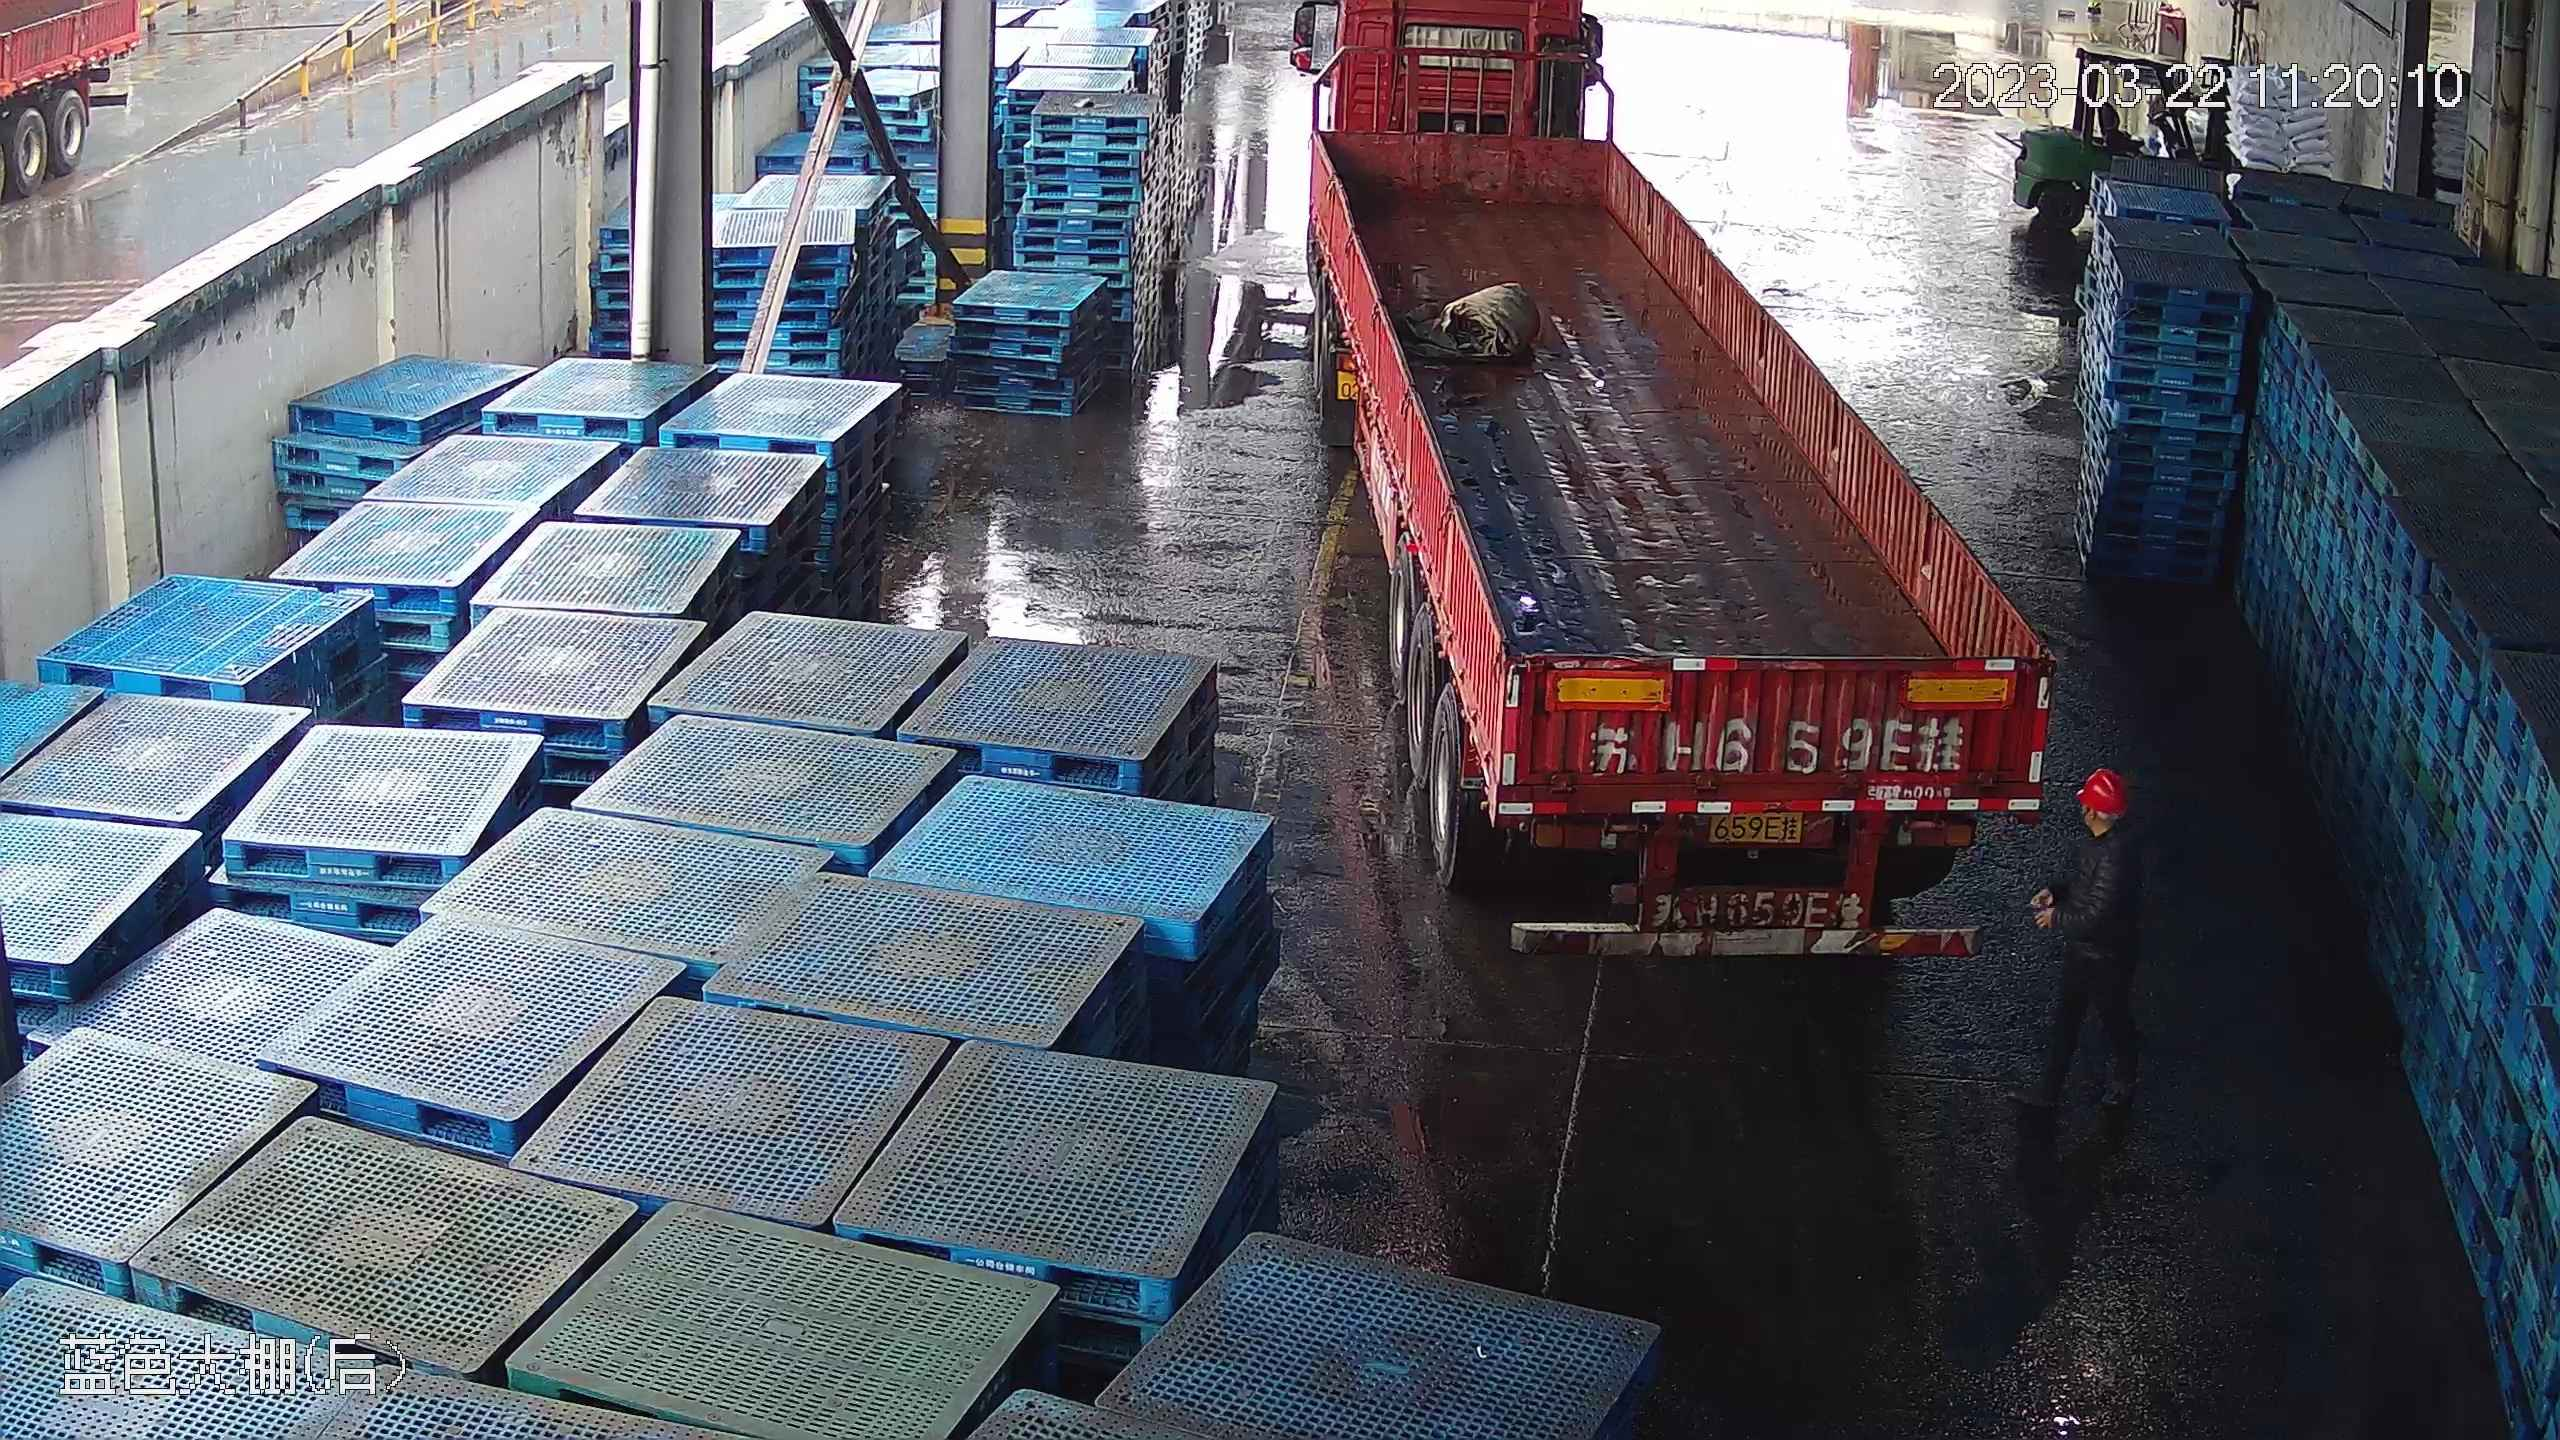head: (2056, 765, 2143, 877)
helmet: (2078, 764, 2131, 810)
people: (2036, 768, 2151, 1117)
truck: (1291, 8, 2074, 975)
